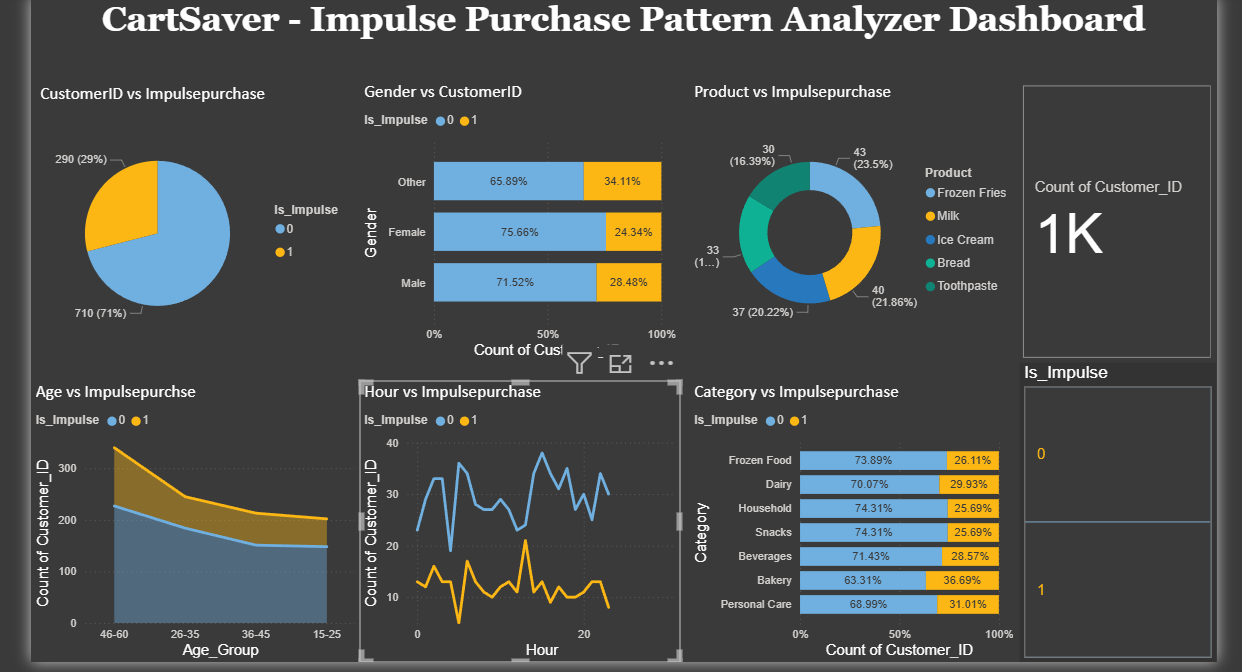

The page's visual inventory and layout, read from the dashboard file:
{"tool":"powerbi","page":{"name":"Page 1","canvas":[1280,720],"ordinal":0},"visuals":[{"type":"textbox","box":[0,0,1279.2,92.3],"z":0},{"type":"pieChart","title":"CustomerID vs Impulsepurchase","fields":{"Category":["CartSaver_Cleaned.Is_Impulse"],"Y":["CountNonNull(CartSaver_Cleaned.Customer_ID)"]},"box":[4.9,93.9,349.8,302.8],"z":1},{"type":"hundredPercentStackedBarChart","title":"Gender vs CustomerID","fields":{"Category":["CartSaver_Cleaned.Gender"],"Y":["CountNonNull(CartSaver_Cleaned.Customer_ID)"],"Series":["CartSaver_Cleaned.Is_Impulse"]},"box":[354.6,92.3,346.5,304.4],"z":2},{"type":"stackedAreaChart","title":"Age vs Impulsepurchse","fields":{"Category":["CartSaver_Cleaned.Age_Group"],"Y":["CountNonNull(CartSaver_Cleaned.Customer_ID)"],"Series":["CartSaver_Cleaned.Is_Impulse"]},"box":[0,416.1,354.6,304.4],"z":3},{"type":"lineChart","title":"Hour vs Impulsepurchase","fields":{"Category":["CartSaver_Cleaned.Hour"],"Y":["CountNonNull(CartSaver_Cleaned.Customer_ID)"],"Series":["CartSaver_Cleaned.Is_Impulse"]},"box":[354.6,416.1,346.5,304.4],"z":4},{"type":"donutChart","title":"Product vs Impulsepurchase","fields":{"Category":["CartSaver_Cleaned.Product"],"Y":["CountNonNull(CartSaver_Cleaned.Customer_ID)"],"Series":["CartSaver_Cleaned.Is_Impulse"]},"box":[710.8,92.3,356.2,304.4],"z":5},{"type":"hundredPercentStackedBarChart","title":"Category vs Impulsepurchase","fields":{"Category":["CartSaver_Cleaned.Category"],"Y":["CountNonNull(CartSaver_Cleaned.Customer_ID)"],"Series":["CartSaver_Cleaned.Is_Impulse"]},"box":[710.8,416.1,354.6,304.4],"z":6},{"type":"cardVisual","fields":{"Data":["CountNonNull(CartSaver_Cleaned.Customer_ID)"]},"box":[1065.5,92.3,213.7,304.4],"z":7},{"type":"advancedSlicerVisual","fields":{"Values":["CartSaver_Cleaned.Is_Impulse"]},"box":[1067.1,396.7,212.1,323.8],"z":8}]}

Visuals, with their boxes in screenshot pixels (x1, y1, x2, y2):
textbox: [left=36, top=10, right=1214, bottom=95]
"CustomerID vs Impulsepurchase" pieChart: [left=40, top=96, right=362, bottom=375]
"Gender vs CustomerID" hundredPercentStackedBarChart: [left=362, top=95, right=682, bottom=375]
"Age vs Impulsepurchse" stackedAreaChart: [left=36, top=393, right=362, bottom=671]
"Hour vs Impulsepurchase" lineChart: [left=362, top=393, right=682, bottom=671]
"Product vs Impulsepurchase" donutChart: [left=691, top=95, right=1019, bottom=375]
"Category vs Impulsepurchase" hundredPercentStackedBarChart: [left=691, top=393, right=1017, bottom=671]
cardVisual - CountNonNull(CartSaver_Cleaned.Customer_ID): [left=1017, top=95, right=1214, bottom=375]
advancedSlicerVisual - CartSaver_Cleaned.Is_Impulse: [left=1019, top=375, right=1214, bottom=671]
